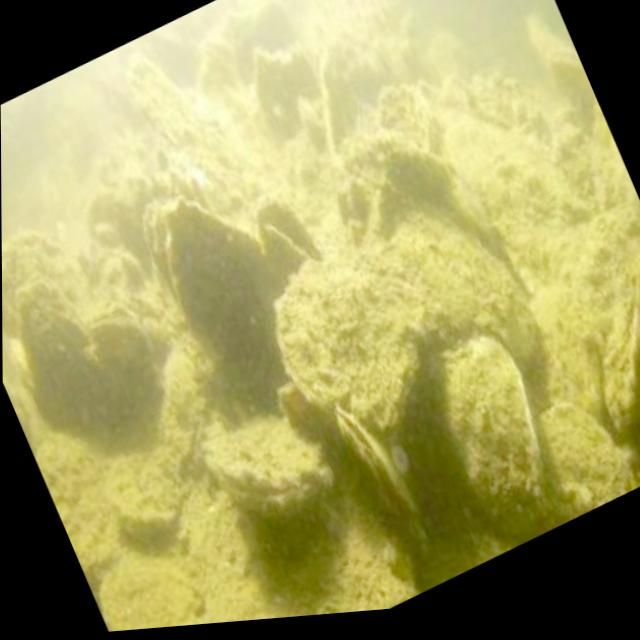Oyster-Closed: (192, 393, 337, 540), (119, 318, 244, 470), (558, 242, 640, 430)
Oyster-Indeterminate: (243, 212, 450, 463), (359, 171, 547, 406), (123, 165, 299, 402), (411, 314, 574, 543), (520, 373, 640, 525), (2, 271, 112, 433), (332, 100, 465, 233), (84, 525, 215, 633), (92, 433, 197, 549), (514, 0, 601, 131), (2, 205, 81, 320)
Oyster-Open: (325, 382, 427, 546), (239, 176, 325, 289), (82, 291, 156, 376)
